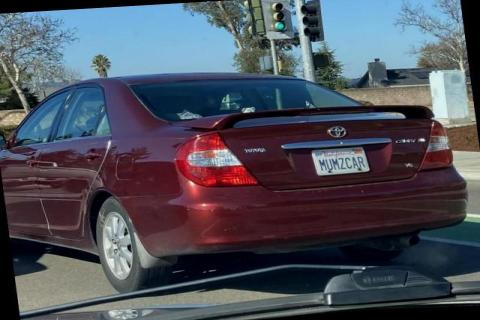LicensePlate: (309, 145, 368, 175)
